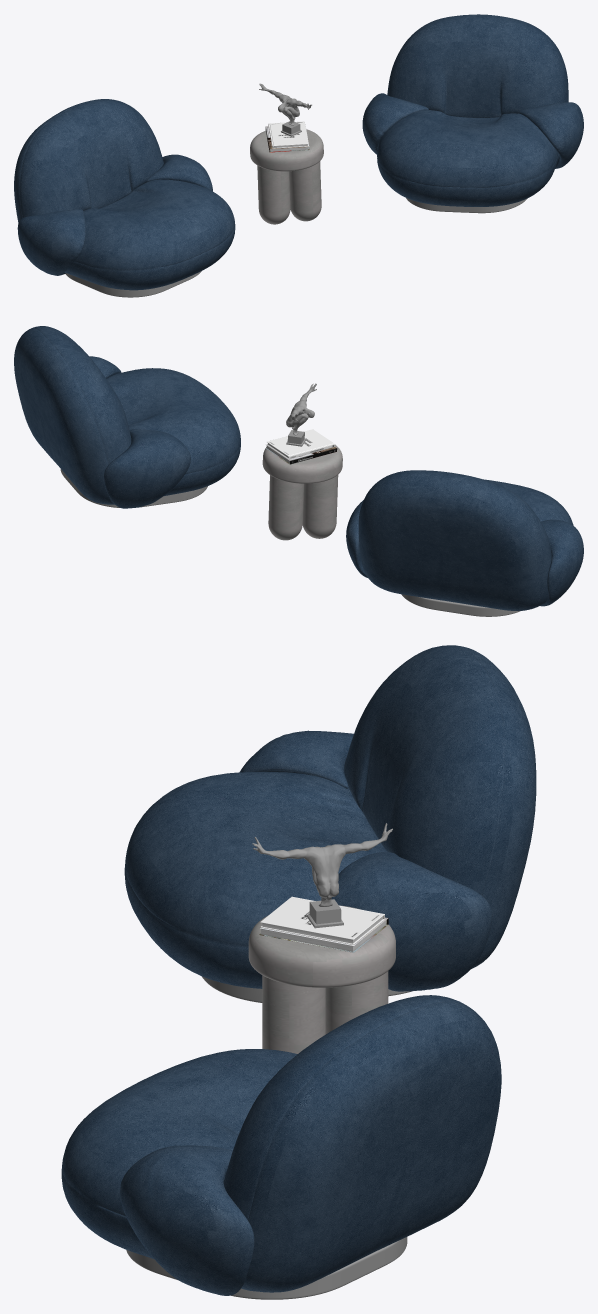
File: modern-sofa.glb
The picture shows the model from 3 angles, top to bottom: view 1: azimuth 30°, elevation 25°; view 2: azimuth 150°, elevation 25°; view 3: azimuth 270°, elevation 25°; orthographic projection. The views are drawn at different scales.
Visible parts, largest first — view 1: Mesh4_M_0_1____4_dy_1_0, Mesh2_M_0_1____4_dy_1_0, Mesh8_Material__2147461291asdasd_0, Mesh1_JianE_Mtl_202189153193298__Plastic_0, Mesh5_M_0018_____Plastic_0, Mesh6_Cover_13_0, Mesh3_JianE_Mtl_202189153193298__Plastic_0; view 2: Mesh4_M_0_1____4_dy_1_0, Mesh2_M_0_1____4_dy_1_0, Mesh8_Material__2147461291asdasd_0, Mesh1_JianE_Mtl_202189153193298__Plastic_0, Mesh6_Cover_13_0, Mesh5_M_0018_____Plastic_0, Mesh3_JianE_Mtl_202189153193298__Plastic_0; view 3: Mesh4_M_0_1____4_dy_1_0, Mesh2_M_0_1____4_dy_1_0, Mesh8_Material__2147461291asdasd_0, Mesh5_M_0018_____Plastic_0, Mesh3_JianE_Mtl_202189153193298__Plastic_0, Mesh6_Cover_13_0.
Part boxes in pixels (left/top/right/bottom): Mesh4_M_0_1____4_dy_1_0: left=362, top=14, right=583, bottom=206; Mesh2_M_0_1____4_dy_1_0: left=14, top=99, right=235, bottom=290; Mesh8_Material__2147461291asdasd_0: left=250, top=129, right=323, bottom=224; Mesh1_JianE_Mtl_202189153193298__Plastic_0: left=65, top=271, right=201, bottom=297; Mesh5_M_0018_____Plastic_0: left=259, top=83, right=311, bottom=136; Mesh6_Cover_13_0: left=268, top=121, right=308, bottom=148; Mesh3_JianE_Mtl_202189153193298__Plastic_0: left=406, top=198, right=527, bottom=213; Mesh4_M_0_1____4_dy_1_0: left=14, top=326, right=240, bottom=508; Mesh2_M_0_1____4_dy_1_0: left=346, top=470, right=583, bottom=610; Mesh8_Material__2147461291asdasd_0: left=262, top=445, right=342, bottom=540; Mesh1_JianE_Mtl_202189153193298__Plastic_0: left=401, top=594, right=520, bottom=616; Mesh6_Cover_13_0: left=266, top=429, right=335, bottom=459; Mesh5_M_0018_____Plastic_0: left=286, top=383, right=316, bottom=446; Mesh3_JianE_Mtl_202189153193298__Plastic_0: left=60, top=469, right=207, bottom=507; Mesh4_M_0_1____4_dy_1_0: left=61, top=995, right=501, bottom=1295; Mesh2_M_0_1____4_dy_1_0: left=124, top=645, right=536, bottom=991; Mesh8_Material__2147461291asdasd_0: left=248, top=905, right=395, bottom=1053; Mesh5_M_0018_____Plastic_0: left=252, top=823, right=392, bottom=928; Mesh3_JianE_Mtl_202189153193298__Plastic_0: left=126, top=1237, right=407, bottom=1299; Mesh6_Cover_13_0: left=260, top=896, right=384, bottom=944.
Bounding box in the file's own units: 2.93 × 0.7999 × 1.15.
Materials: 8 (6 with a texture image).
